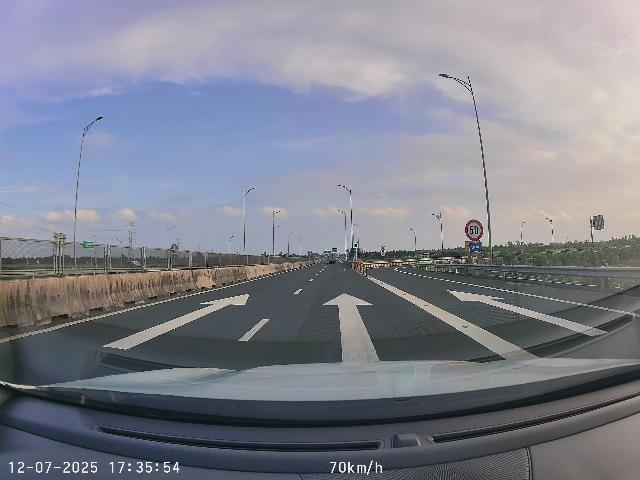127-toc-do-toi-da-50: (465, 219, 484, 241)
